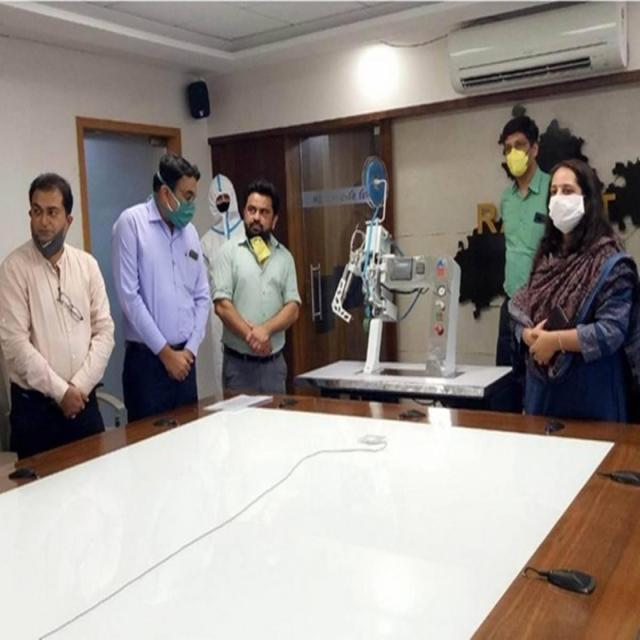Mask: (545, 187, 603, 244), (151, 195, 207, 247), (497, 148, 530, 186)
